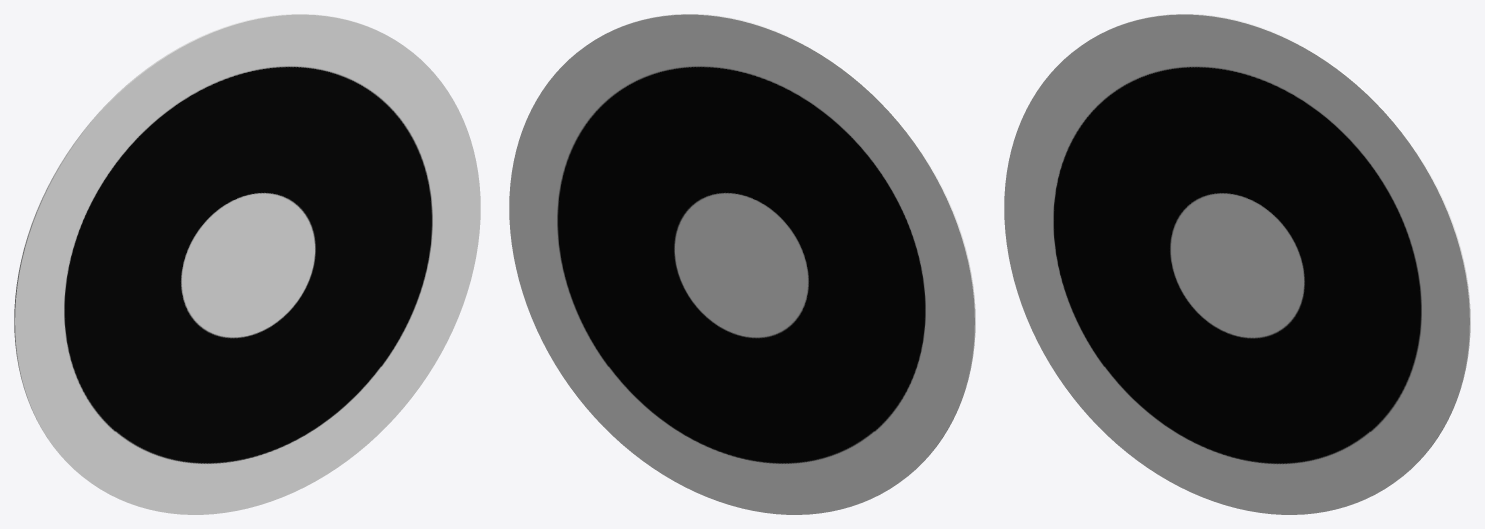
File: whycon_marker.obj
3 renders of one model, left to right at view 1: azimuth 30°, elevation 25°; view 2: azimuth 150°, elevation 25°; view 3: azimuth 330°, elevation 25°, orthographic.
Bounding box in the file's own units: 0.626 × 0.626 × 0.002.
1 material, 1 textured.
